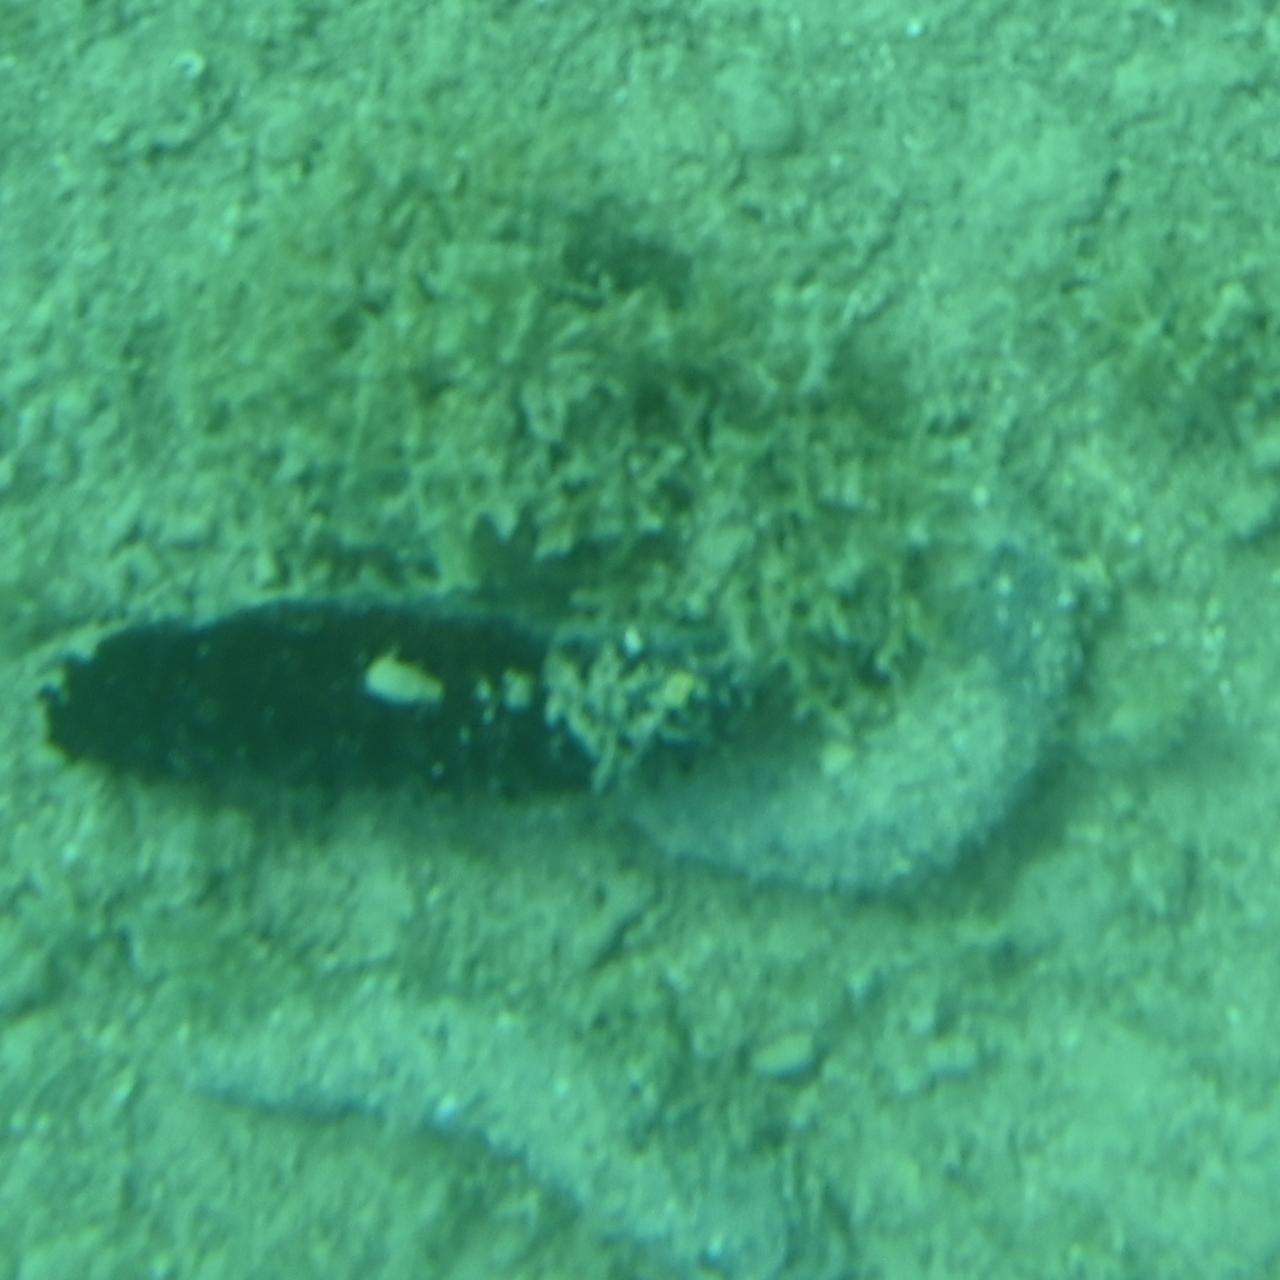Holothuria tubulosa: (615, 479, 1115, 915), (189, 990, 765, 1280), (55, 566, 777, 792)
